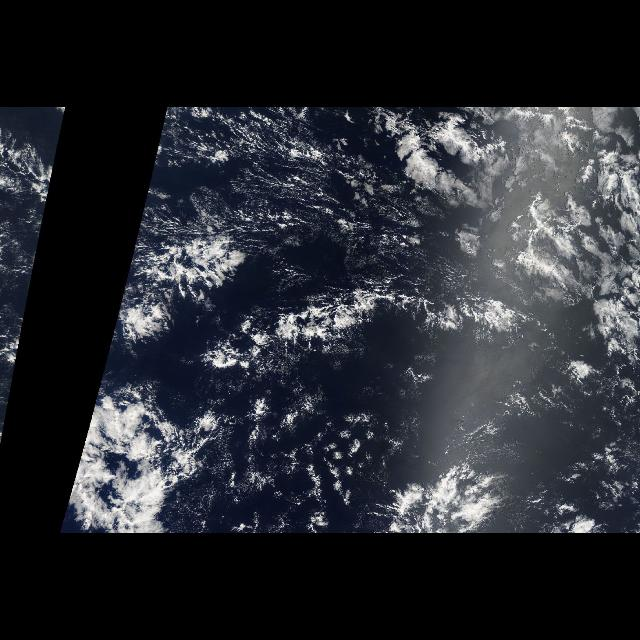Fish: (66, 238, 556, 532), (372, 466, 506, 534)
Sugar: (130, 116, 514, 354)
